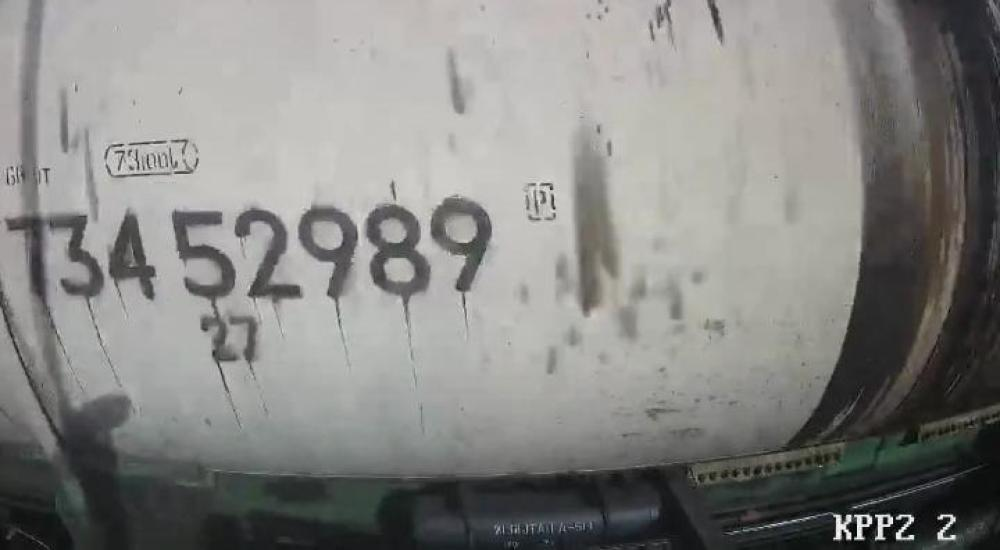Wagon-number: (0, 194, 500, 310)
